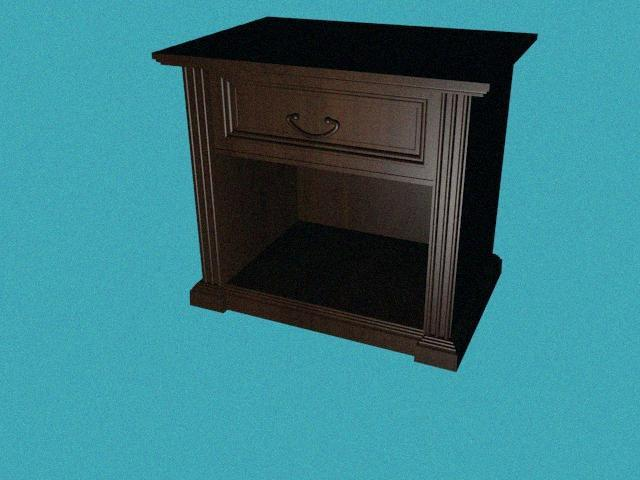cabinet_door: (206, 81, 443, 170)
handle: (280, 106, 344, 144)
